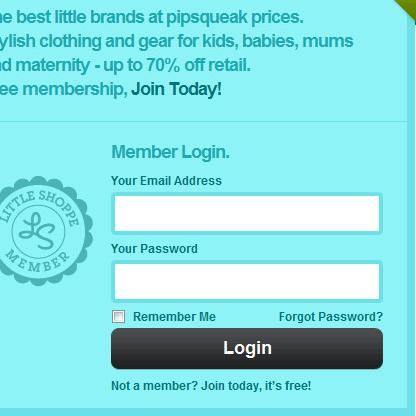button: (111, 327, 383, 370)
checkbox: (112, 308, 126, 325)
checkbox_with_label: (109, 306, 216, 325)
field: (111, 192, 384, 236), (111, 261, 383, 304)
field_with_label: (109, 174, 386, 238), (109, 243, 385, 305)
